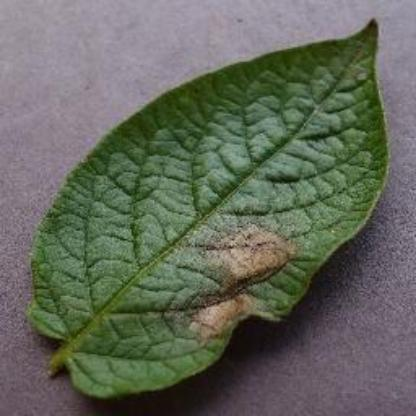Late-Blight: (14, 16, 410, 400)
